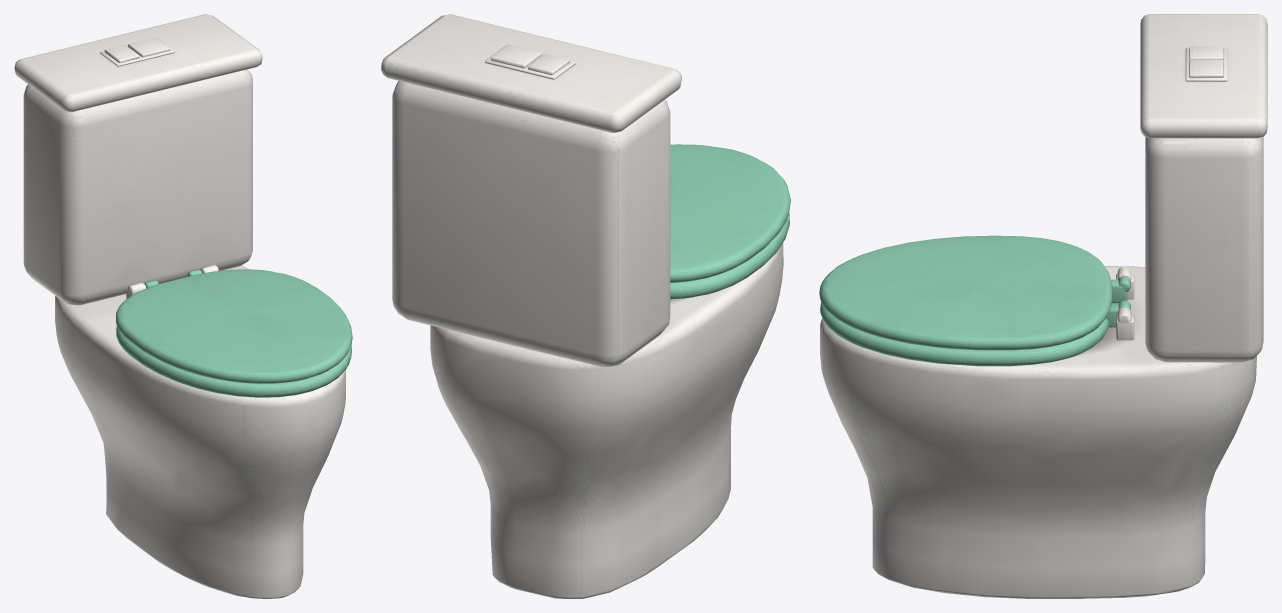
Rendered from toilet.glb.
3 renders of one model, left to right at view 1: azimuth 30°, elevation 25°; view 2: azimuth 150°, elevation 25°; view 3: azimuth 270°, elevation 25°, orthographic. The views are drawn at different scales.
Parts seen in each view (by area): view 1: toilet_body, toilet_lid, toilet_seat; view 2: toilet_body, toilet_lid, toilet_seat; view 3: toilet_body, toilet_lid, toilet_seat.
Boxes of the visible parts, x1,y1,x2,y2 form: toilet_body: (14,14,345,598); toilet_lid: (115,269,352,383); toilet_seat: (116,269,351,397); toilet_body: (381,14,783,598); toilet_lid: (670,144,790,282); toilet_seat: (670,213,789,299); toilet_body: (820,14,1267,598); toilet_lid: (819,235,1112,350); toilet_seat: (820,276,1130,366).
Size of the model in its own units: 0.38 by 0.806 by 0.645.
4 materials, 3 textured.
